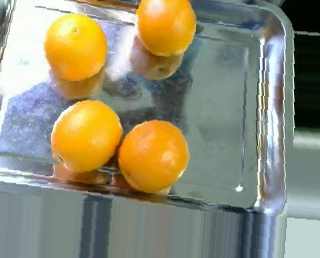Orange: (51, 99, 123, 174), (118, 118, 189, 192), (43, 14, 106, 82), (135, 1, 197, 57)
